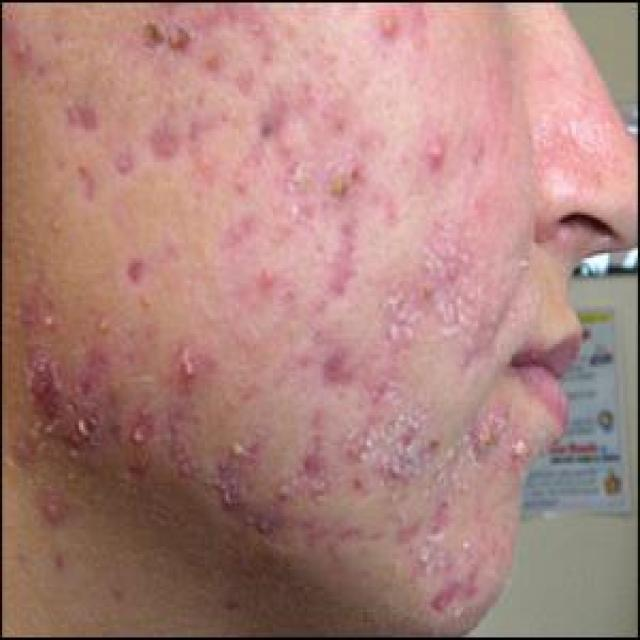Acne: (218, 394, 340, 528), (239, 7, 320, 102), (416, 254, 504, 340), (422, 496, 484, 615), (360, 419, 440, 492), (140, 9, 229, 74), (460, 405, 541, 473), (377, 281, 417, 415), (128, 386, 190, 470), (311, 212, 367, 298), (36, 368, 90, 454), (258, 110, 307, 191), (28, 284, 62, 360), (175, 336, 224, 387), (119, 254, 158, 315), (63, 92, 112, 140), (321, 146, 366, 197), (194, 105, 224, 176), (372, 4, 428, 42), (318, 334, 358, 379), (390, 514, 420, 572), (66, 158, 100, 206), (422, 132, 463, 170), (42, 491, 84, 528), (5, 33, 42, 71), (152, 110, 177, 158), (239, 167, 254, 240), (382, 190, 405, 236), (328, 104, 356, 136), (106, 152, 140, 178), (262, 258, 284, 296), (290, 204, 305, 224)
